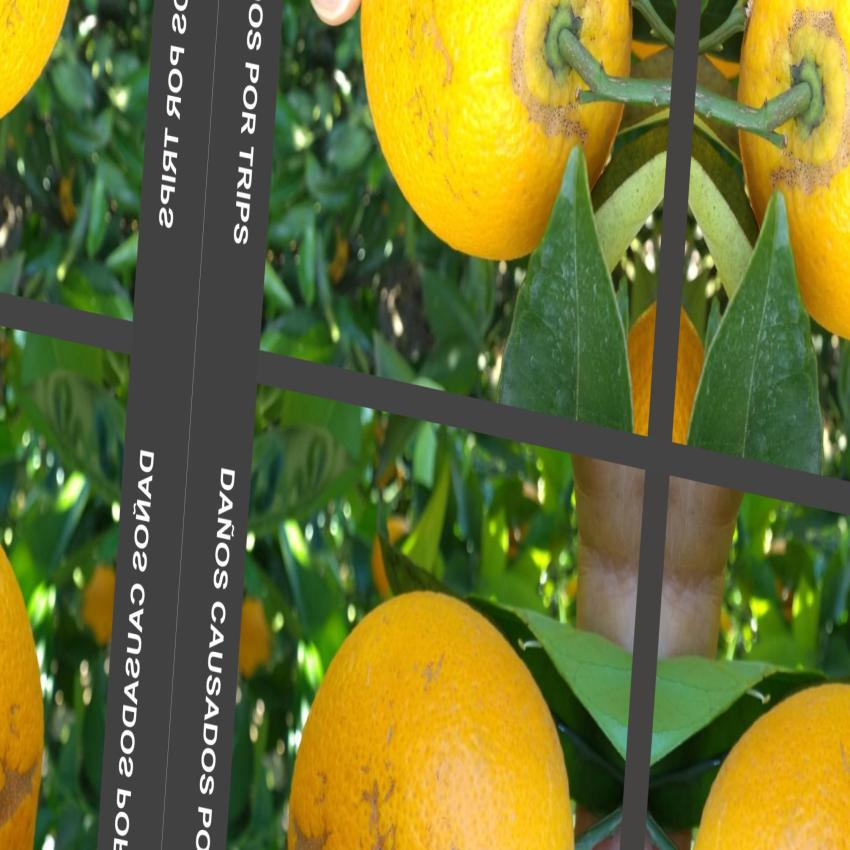Mal estado: (357, 0, 643, 290), (274, 591, 587, 848), (732, 0, 850, 327)
